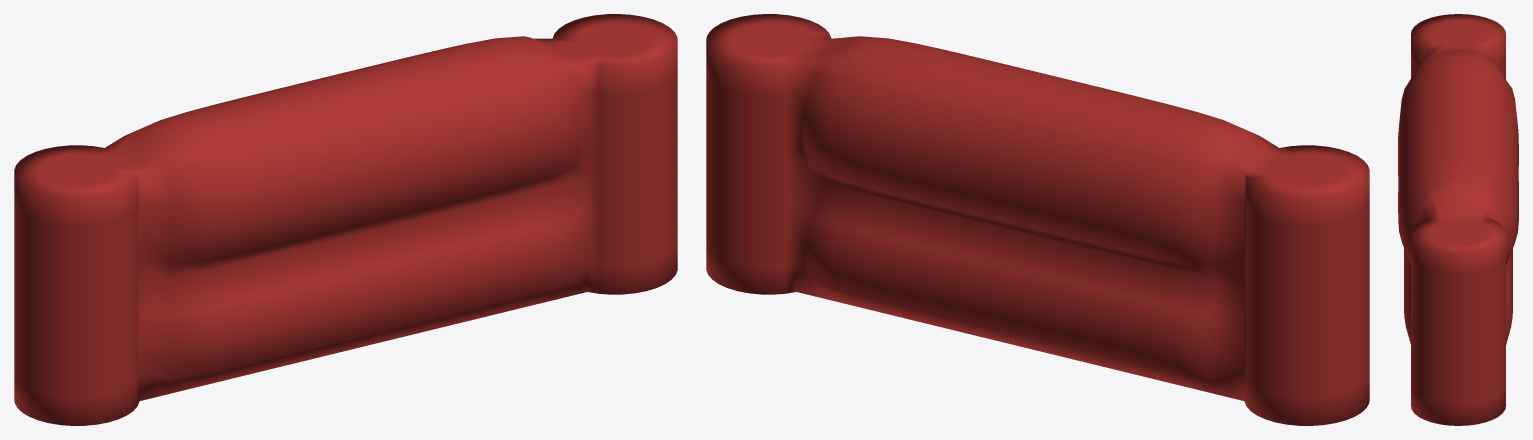
File: bouncy_wall.fbx
3 views of the same model, side by side, from view 1: azimuth 30°, elevation 25°; view 2: azimuth 150°, elevation 25°; view 3: azimuth 270°, elevation 25° (orthographic). The views are drawn at different scales.
Parts seen in each view (by area): view 1: Cylinder; view 2: Cylinder; view 3: Cylinder.
Part boxes in pixels (box(x1,y1,x2,y2)): Cylinder: box(14, 14, 677, 425); Cylinder: box(706, 14, 1369, 425); Cylinder: box(1398, 14, 1518, 425).
Size of the model in its own units: 1189 by 442 by 254.
